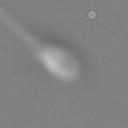normal: (1, 6, 41, 52)
